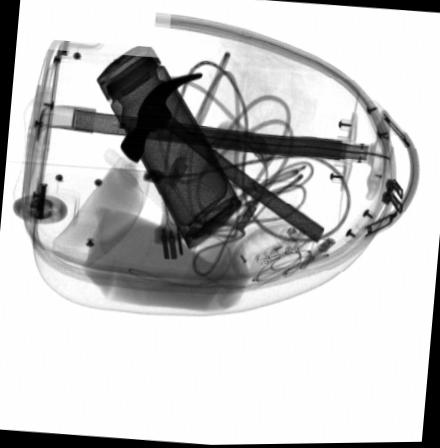Hammer: (118, 73, 323, 244)
